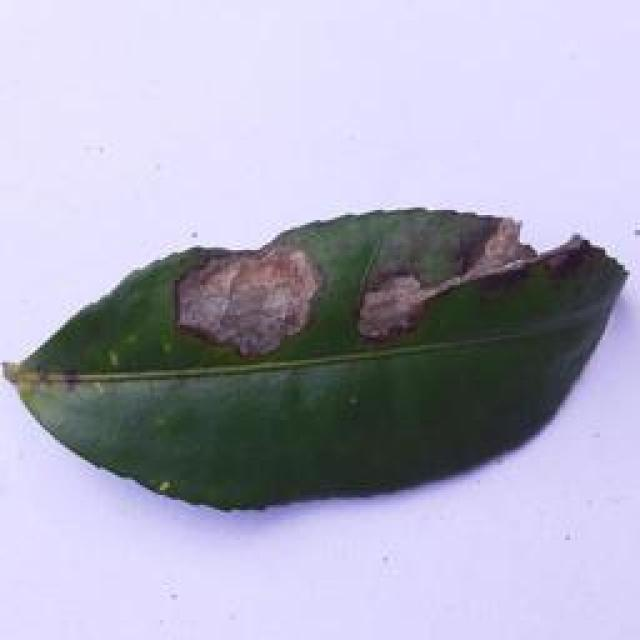Gray Blight: (3, 196, 632, 516)
